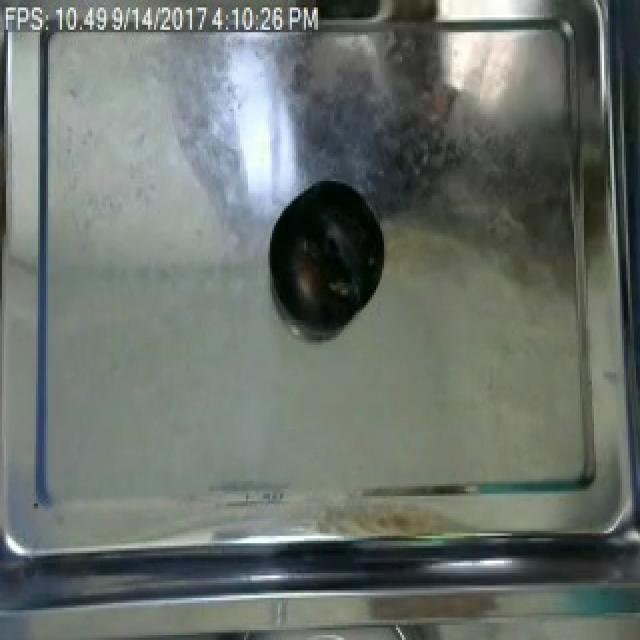Fruit: (262, 172, 390, 338)
